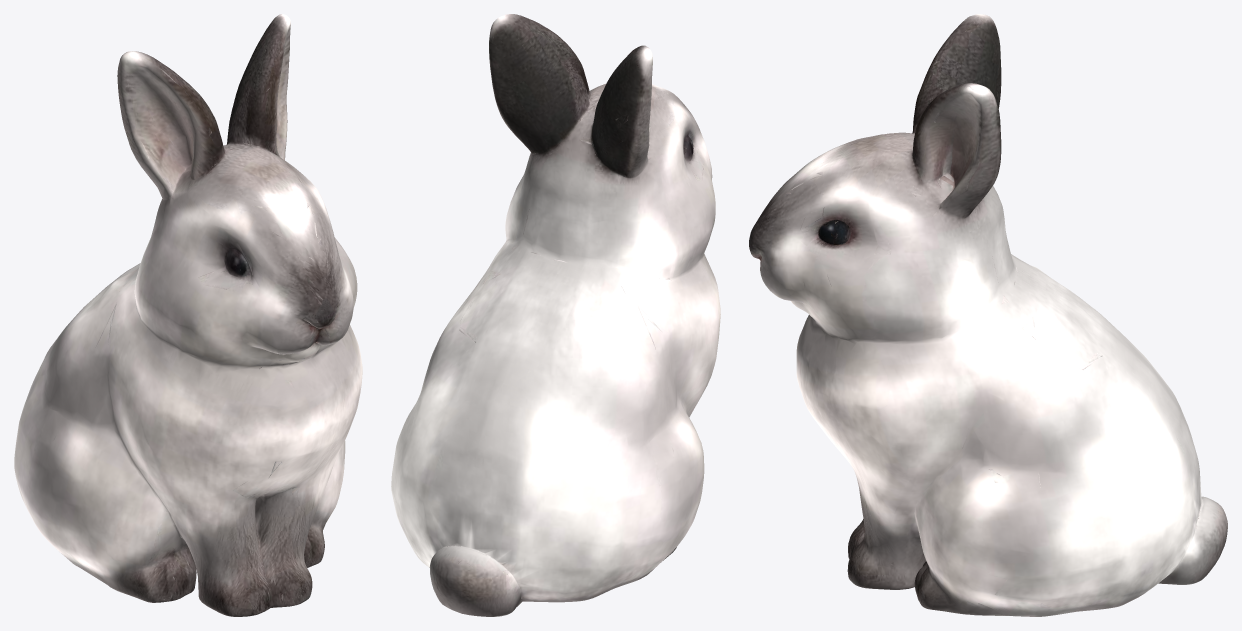
Rendered from rabbit-white.glb.
3 views of the same model, side by side, from view 1: azimuth 30°, elevation 25°; view 2: azimuth 150°, elevation 25°; view 3: azimuth 270°, elevation 25° (orthographic). The views are drawn at different scales.
Parts seen in each view (by area): view 1: Mesh_0; view 2: Mesh_0; view 3: Mesh_0.
Boxes of the visible parts, x1=… form: Mesh_0: x1=14, y1=14, x2=362, y2=616; Mesh_0: x1=391, y1=14, x2=720, y2=616; Mesh_0: x1=749, y1=14, x2=1227, y2=616.
Size of the model in its own units: 1.05 by 1.9 by 1.59.
1 material, 1 textured.
